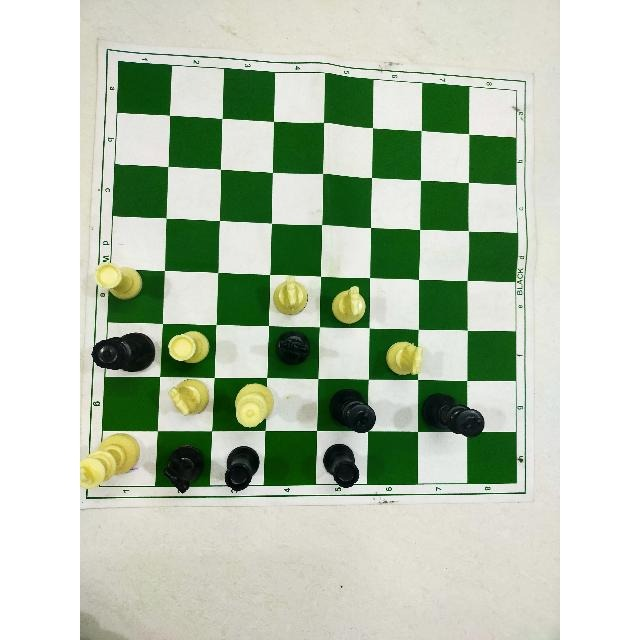black-king: (418, 385, 492, 441), (324, 384, 378, 436)
black-knight: (160, 437, 206, 498), (269, 328, 315, 374)
black-queen: (83, 329, 158, 378)
black-rook: (316, 442, 363, 492), (219, 445, 261, 495)
white-king: (81, 426, 149, 503)
white-knight: (323, 279, 370, 330), (269, 273, 312, 325), (379, 332, 426, 379), (163, 377, 212, 417)
white-queen: (226, 376, 278, 434)
white-rook: (92, 254, 150, 306), (162, 327, 218, 371)
